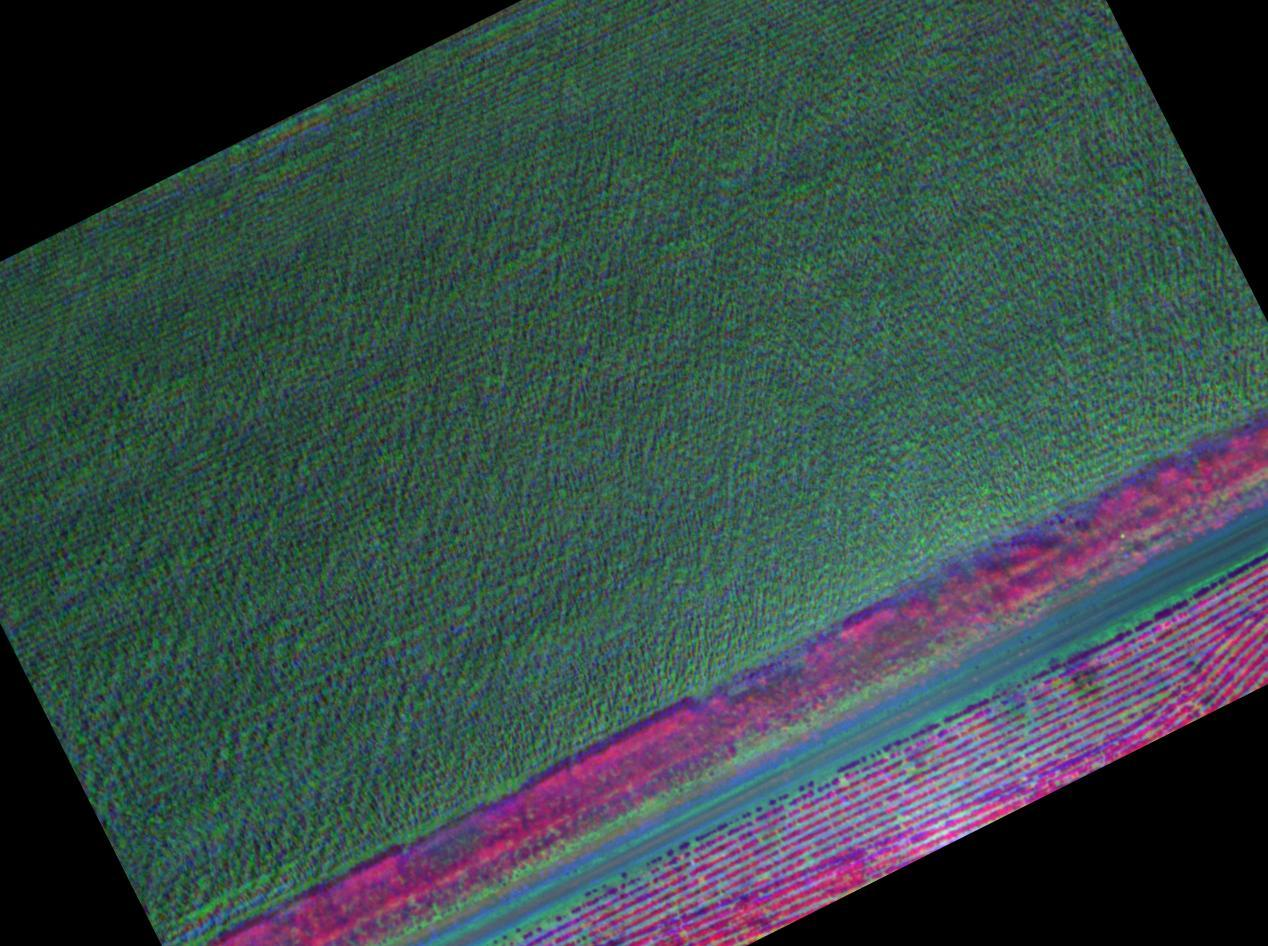dc: (1049, 646, 1132, 720)
